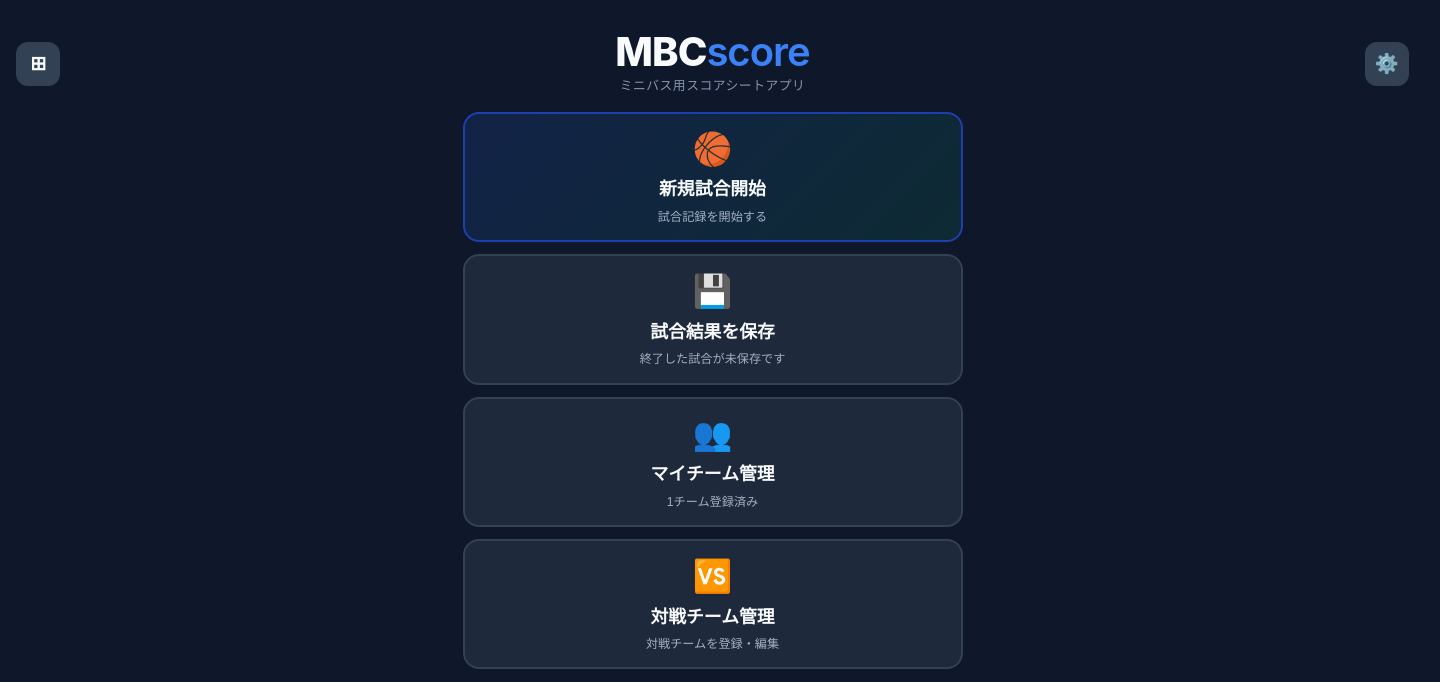
App: 試合終了時の保存 › 保存に失敗したら中断セッションを消さない
The image size is (1440, 682).
Click the text "試合結果を保存" at (713, 330), box [650,317,775,343]
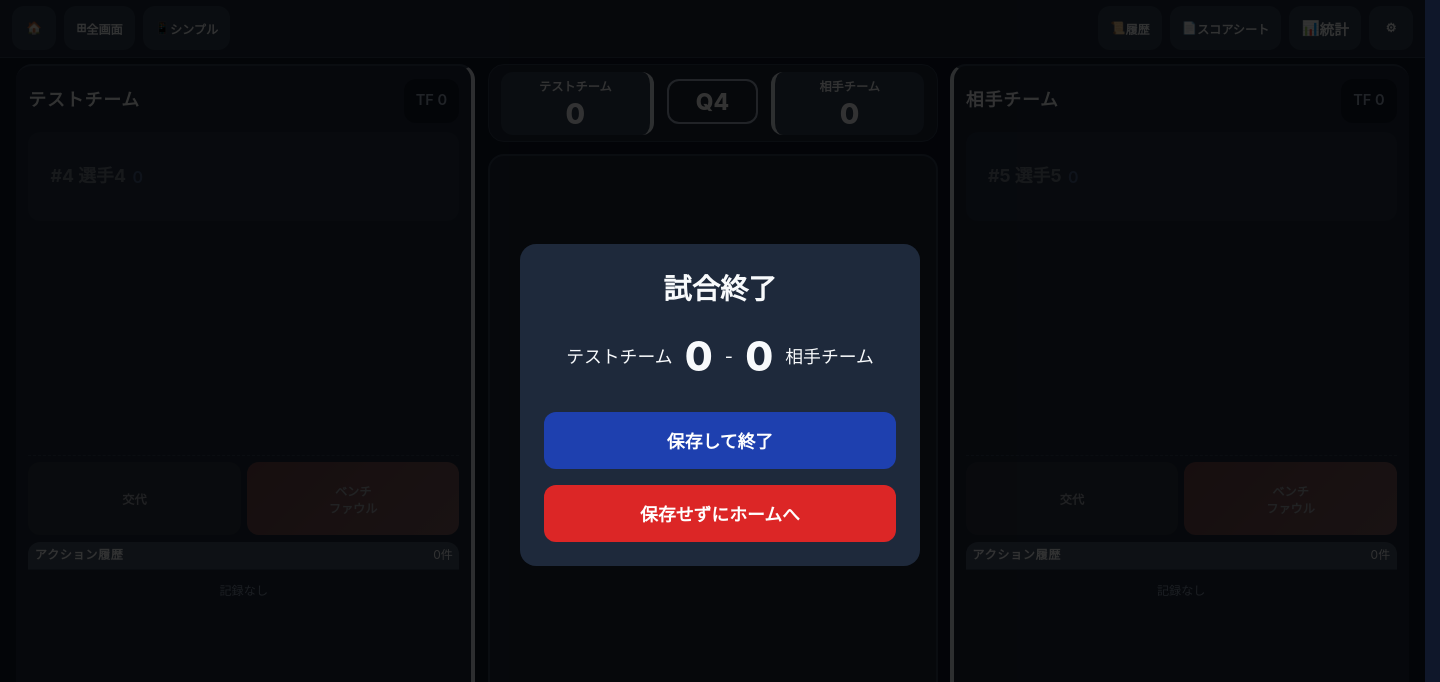
Click the button "保存して終了" at (720, 440), box [544,412,896,469]
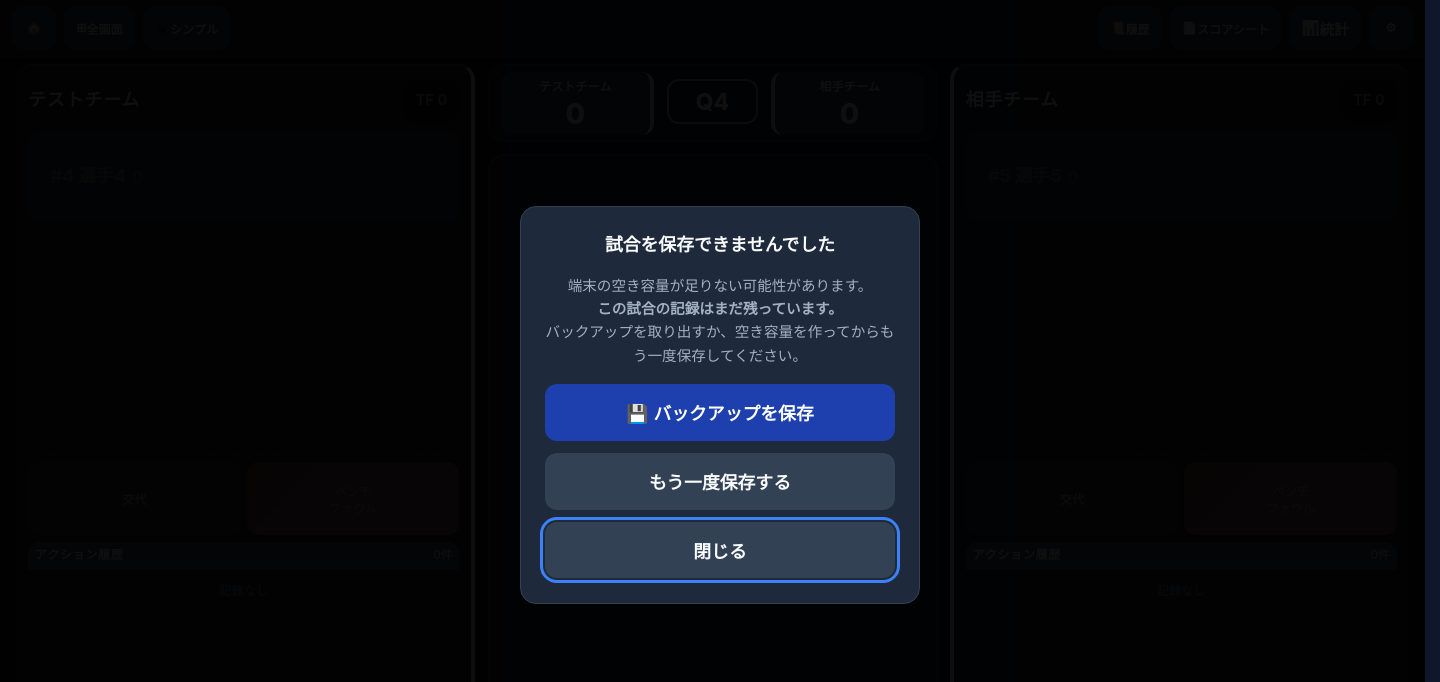
Now the heading "試合を保存できませんでした" is shown, box [605,234,835,255]
